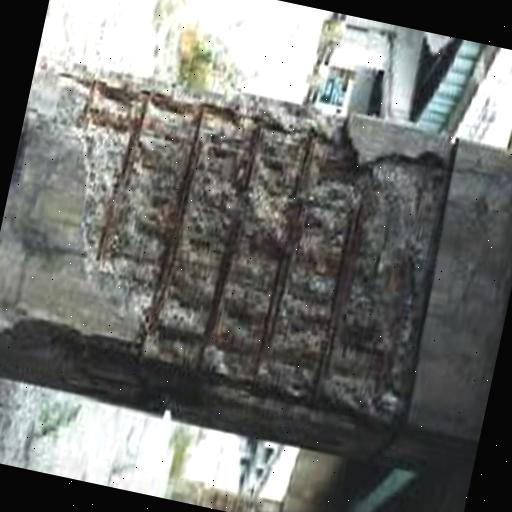spalling: (1, 54, 461, 452)
